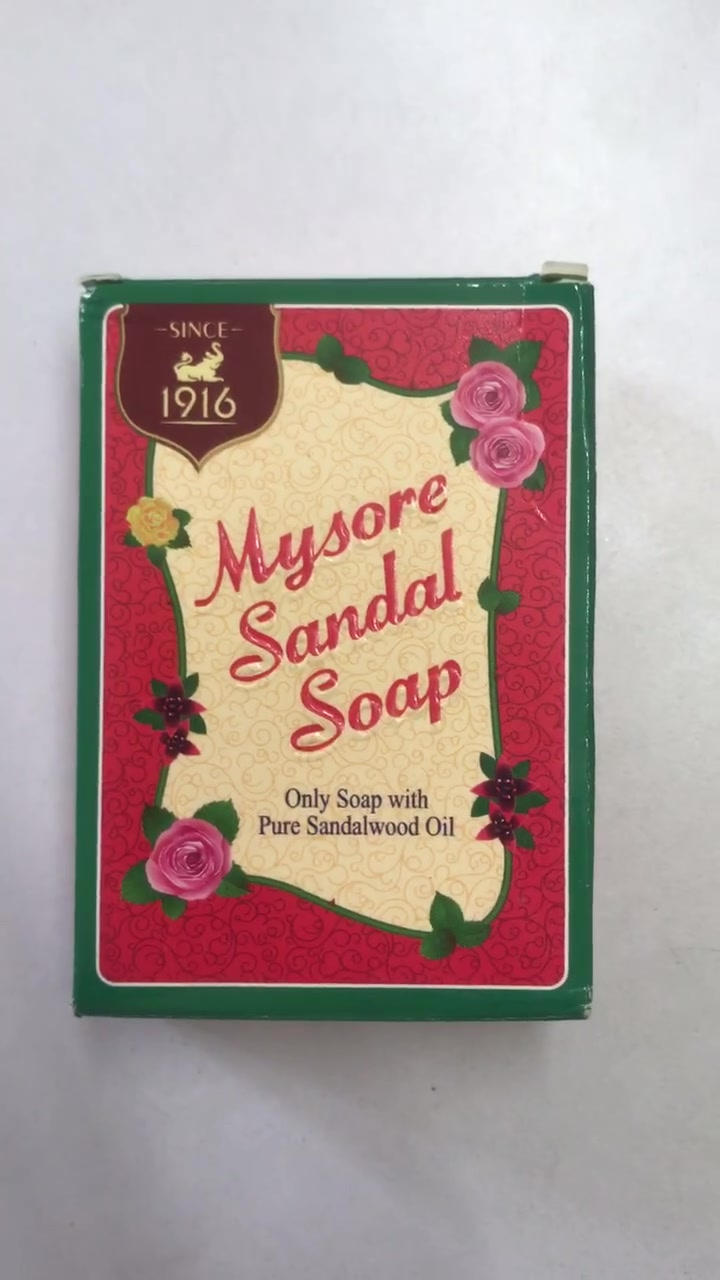mysore sandal soap: (85, 278, 588, 1023)
